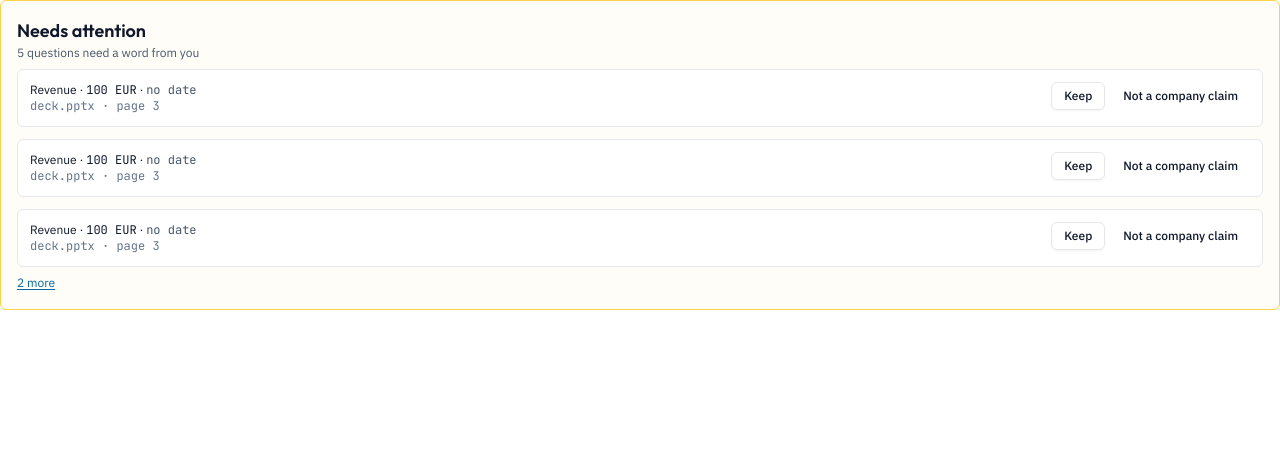
five questions: three cards, an '2 more' link that opens the rest and closes again
Later steps or results of the test are not shown.
Expected: the number of list items with test id "attention-card" is 3, [17,69,1263,127]; [17,139,1263,197]; [17,209,1263,267]
Click the button "2 more" at x=36, y=283, box [17,275,55,291]
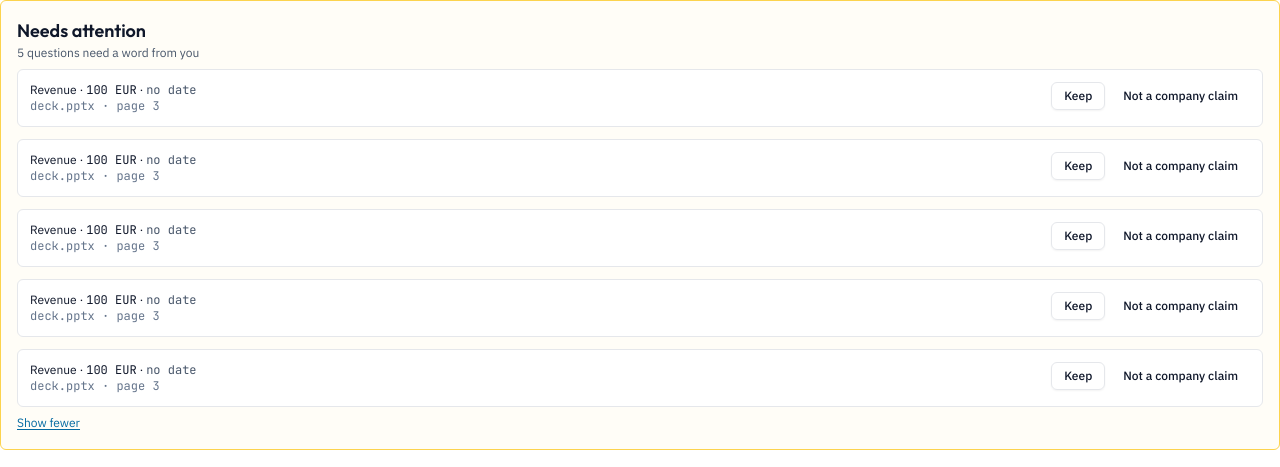
Result: the number of list items with test id "attention-card" is 5 at [17,69,1263,127]; [17,139,1263,197]; [17,209,1263,267]; [17,279,1263,337]; [17,349,1263,407]
